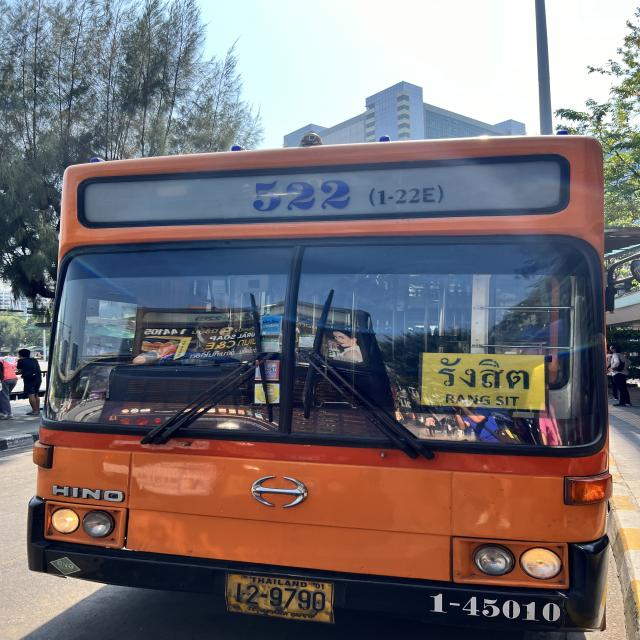BMTA-bus: (25, 129, 618, 640)
Bus-Line-Number: (237, 171, 448, 213)
Destination-Sign-Normal-Expressway: (418, 352, 545, 412)
